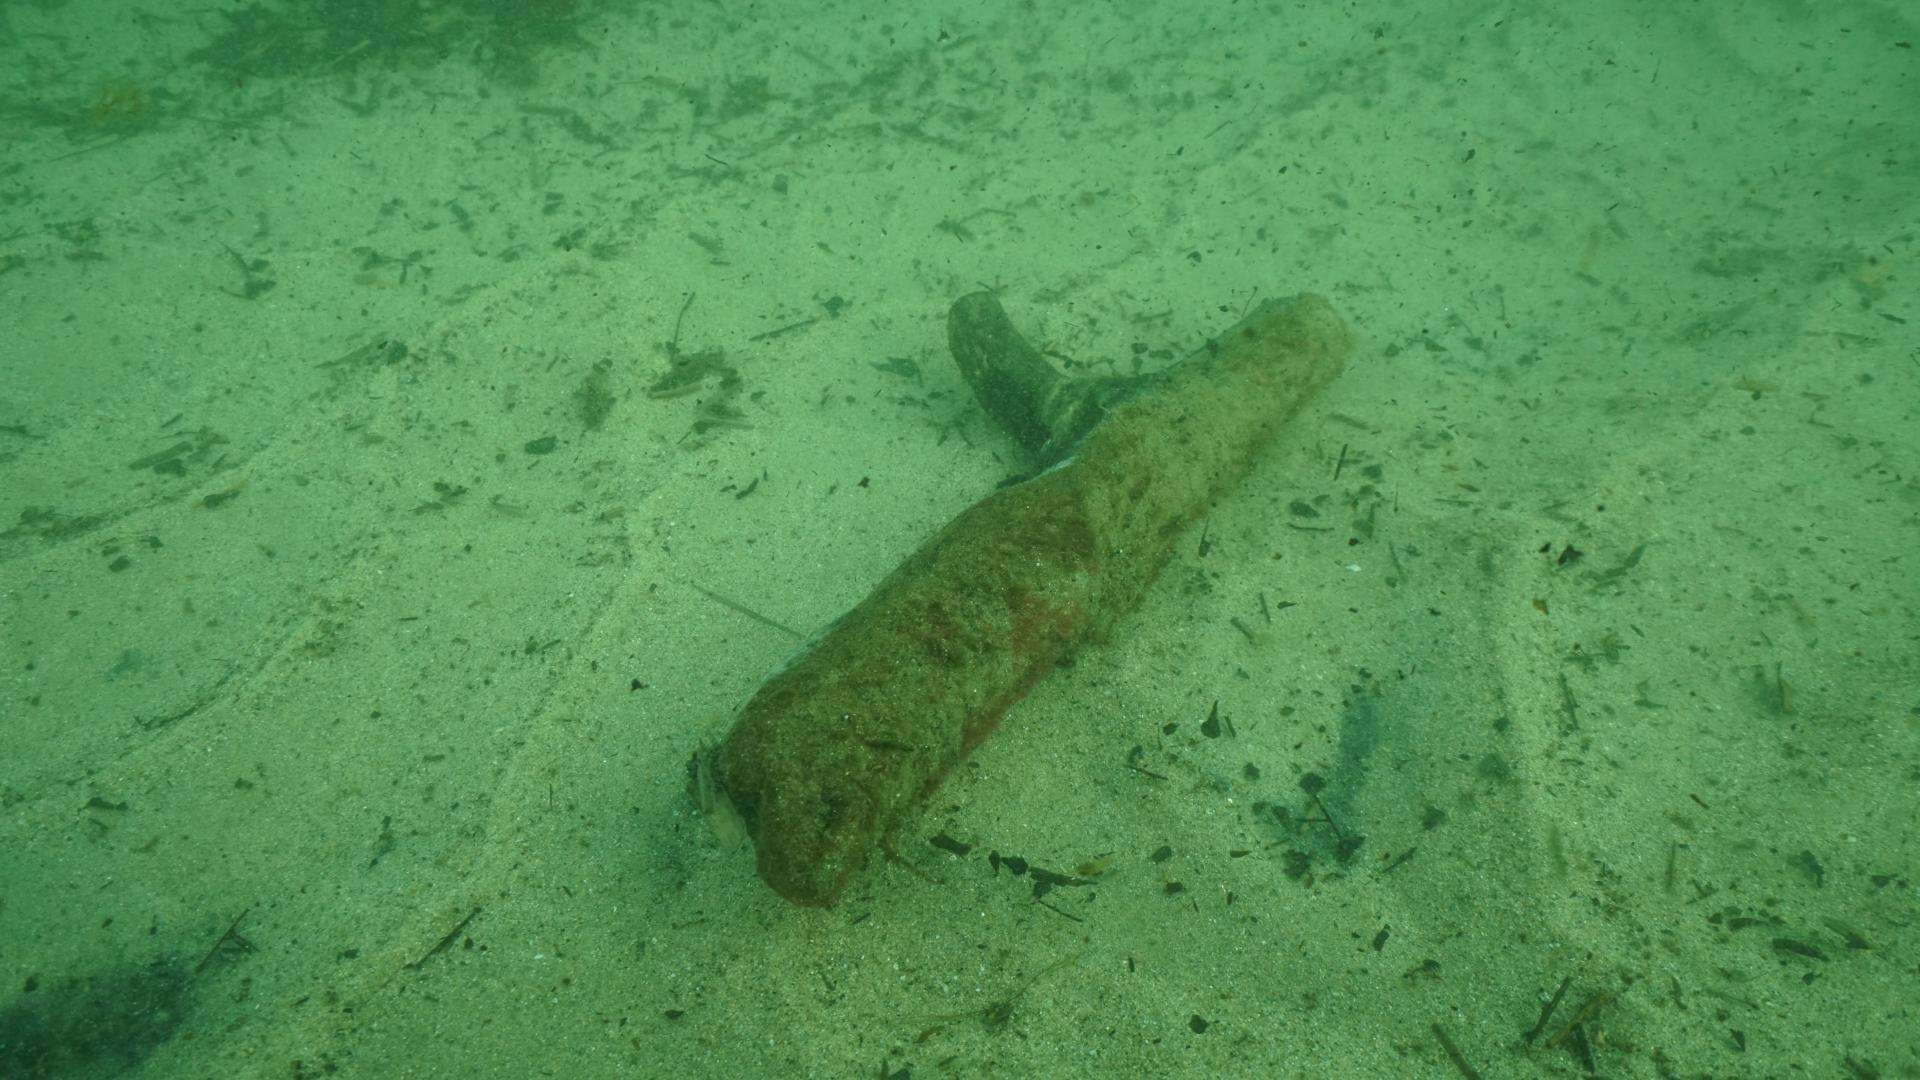wood: (702, 291, 1345, 910)
